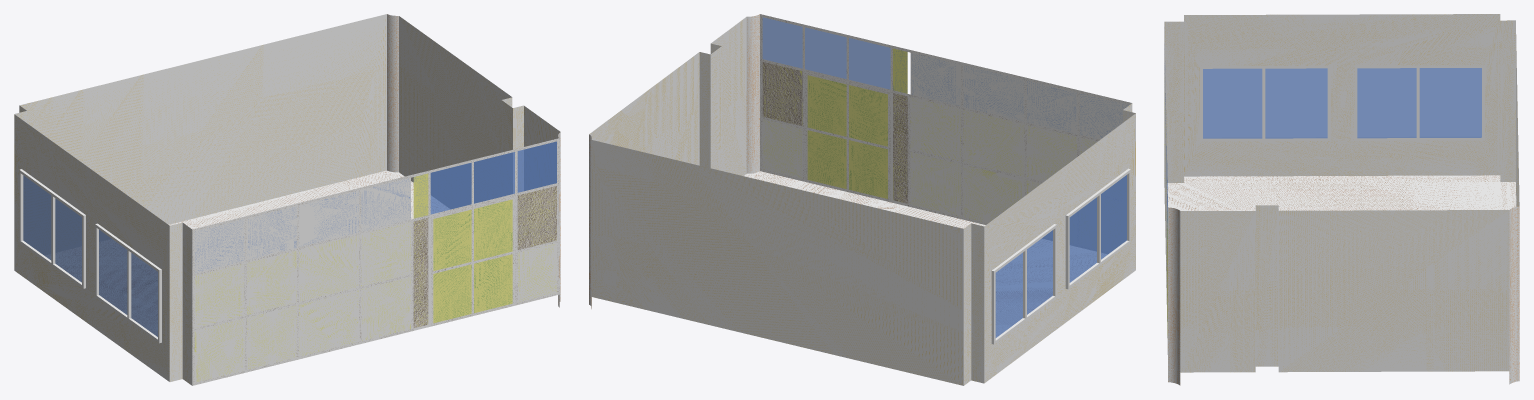
Rendered from COM034.obj.
The picture shows the model from 3 angles, left to right: view 1: azimuth 30°, elevation 25°; view 2: azimuth 150°, elevation 25°; view 3: azimuth 270°, elevation 25°; orthographic projection. The views are drawn at different scales.
Parts seen in each view (by area): view 1: Mesh11 COM034 Model, Mesh1 ventana2_1 COM034 Model, Mesh6 ventana2_2 COM034 Model; view 2: Mesh11 COM034 Model, Mesh1 ventana2_1 COM034 Model, Mesh6 ventana2_2 COM034 Model; view 3: Mesh11 COM034 Model, Mesh1 ventana2_1 COM034 Model, Mesh6 ventana2_2 COM034 Model.
Part boxes in pixels (box(x1,y1,x2,y2)): Mesh11 COM034 Model: box(14, 14, 560, 385); Mesh1 ventana2_1 COM034 Model: box(95, 223, 161, 343); Mesh6 ventana2_2 COM034 Model: box(19, 169, 85, 288); Mesh11 COM034 Model: box(589, 14, 1135, 385); Mesh1 ventana2_1 COM034 Model: box(1065, 168, 1130, 289); Mesh6 ventana2_2 COM034 Model: box(991, 224, 1056, 344); Mesh11 COM034 Model: box(1164, 14, 1519, 385); Mesh1 ventana2_1 COM034 Model: box(1200, 65, 1330, 141); Mesh6 ventana2_2 COM034 Model: box(1354, 65, 1484, 140).
Size of the model in its own units: 7.9 by 3.25 by 5.98.
Materials: 9 (2 with a texture image).
